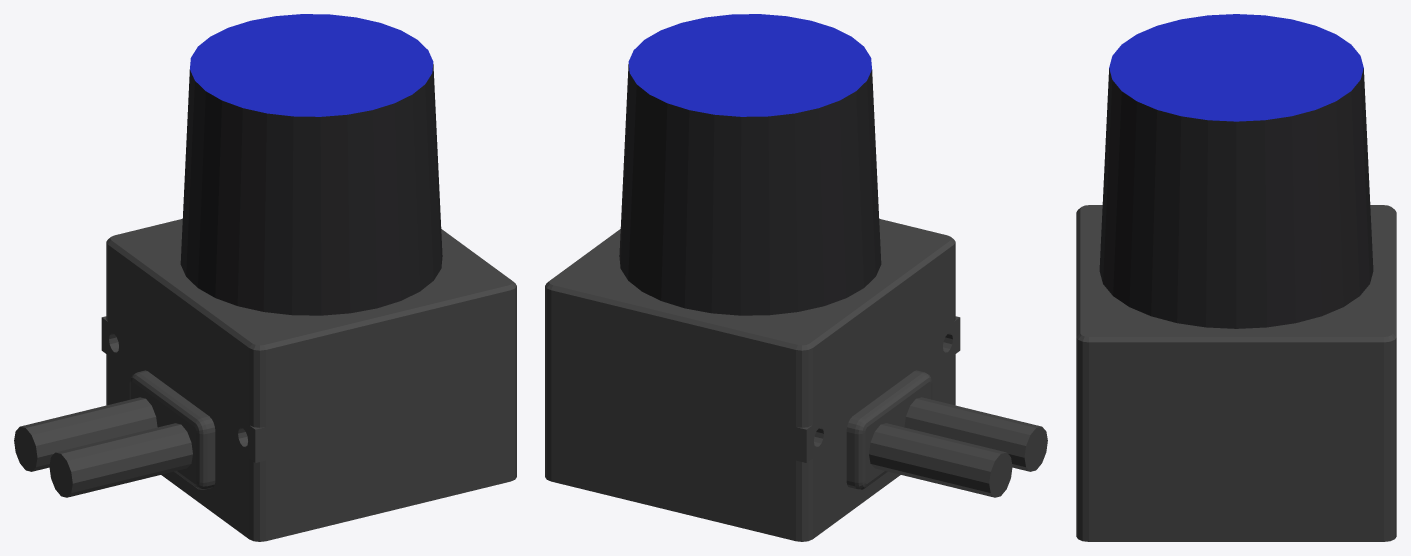
File: hokuyo_ust20lx.dae
3 views of the same model, side by side, from view 1: azimuth 30°, elevation 25°; view 2: azimuth 150°, elevation 25°; view 3: azimuth 270°, elevation 25° (orthographic). The views are drawn at different scales.
Visible parts, largest first — view 1: ust-20lx; view 2: ust-20lx; view 3: ust-20lx.
Boxes of the visible parts, bbox=[...] form: ust-20lx: bbox=[14, 14, 516, 541]; ust-20lx: bbox=[545, 14, 1047, 541]; ust-20lx: bbox=[1076, 14, 1396, 541].
Bounding box in the file's own units: 0.0754 × 0.05 × 0.07.
